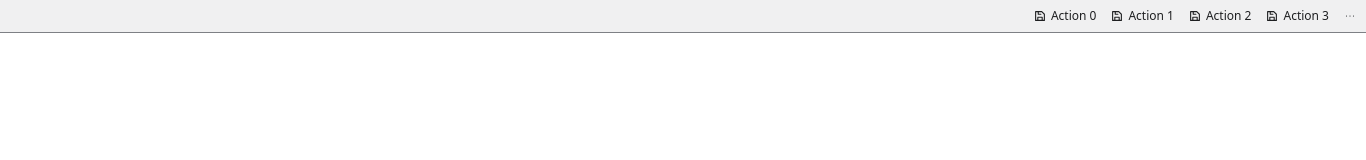
Scenario: ContextBar — overflow › moves commands past the inline limit into an overflow menu rather than a second row
The image size is (1366, 160).
Click the button named "More actions" at (1350, 16), box [1338,4,1362,28]
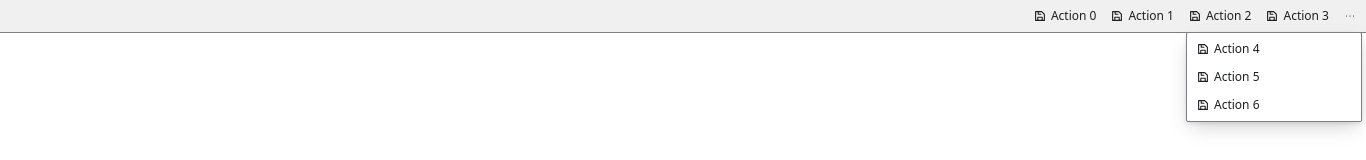
Result: the menu named "More actions" is shown at [1186,32,1362,122]
Result: the number of menu items is 3 at [1196,40,1260,57]; [1196,68,1260,85]; [1196,96,1260,113]
Result: the menu item "Action 6" is shown at [1196,96,1260,113]
